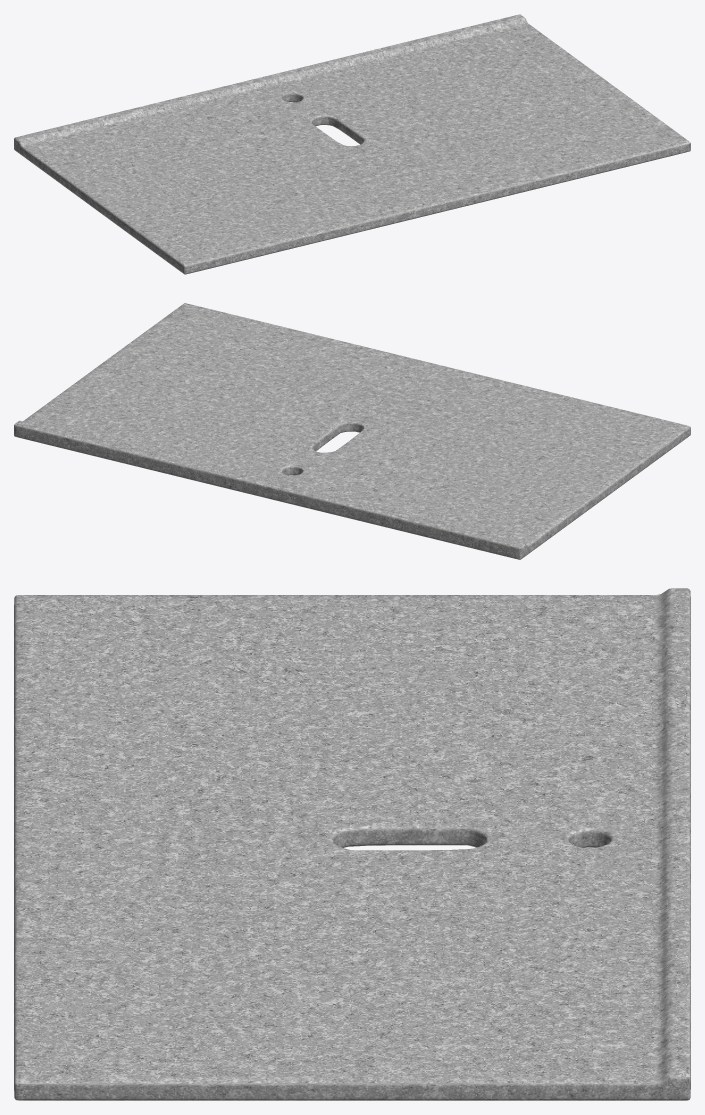
File: Quartzstone-countertop-lightcolour-800mm.glb
The picture shows the model from 3 angles, top to bottom: view 1: azimuth 30°, elevation 25°; view 2: azimuth 150°, elevation 25°; view 3: azimuth 270°, elevation 25°; orthographic projection. The views are drawn at different scales.
Visible parts, largest first — view 1: Plane.002; view 2: Plane.002; view 3: Plane.002.
Part boxes in pixels (<box>): Plane.002: <box>14,14,690,274</box>; Plane.002: <box>14,303,690,559</box>; Plane.002: <box>14,588,690,1100</box>.
Size of the model in its own units: 0.805 by 0.0201 by 0.4708.
1 material, 1 textured.
